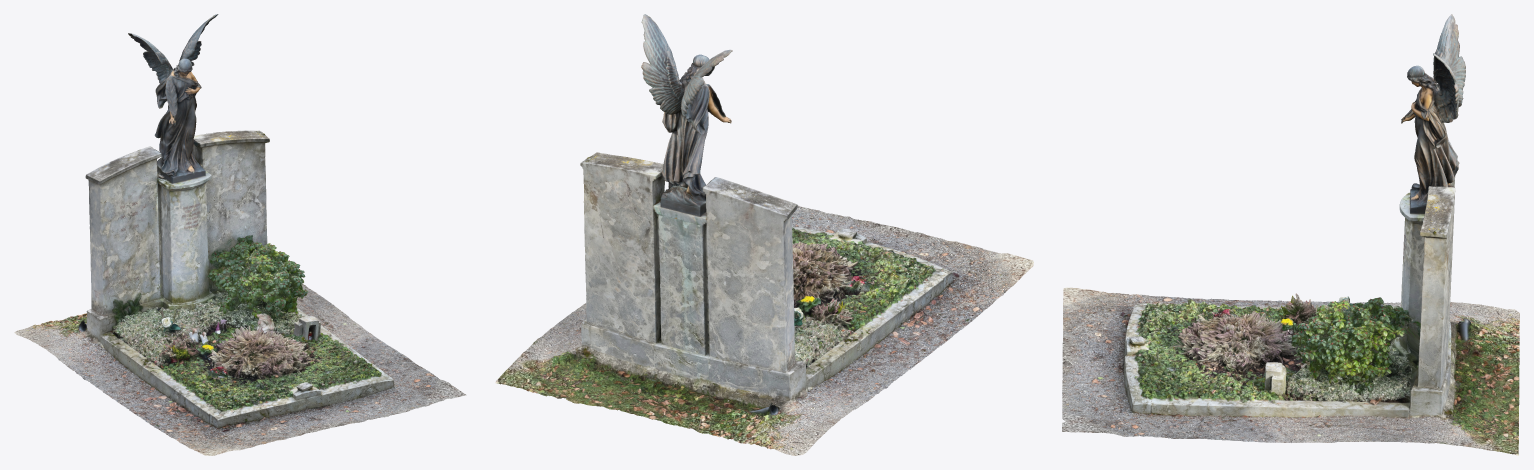
The model's file is gravestone_on_augsburg_westfriedhof_graveyard.glb.
3 renders of one model, left to right at view 1: azimuth 30°, elevation 25°; view 2: azimuth 150°, elevation 25°; view 3: azimuth 270°, elevation 25°, orthographic. The views are drawn at different scales.
Visible parts, largest first — view 1: Object_2, Object_3; view 2: Object_2, Object_3; view 3: Object_2, Object_3.
Part boxes in pixels (<box>): Object_2: <box>14,33,466,455</box>; Object_3: <box>38,14,364,421</box>; Object_2: <box>495,54,1033,455</box>; Object_3: <box>496,14,853,426</box>; Object_2: <box>1062,145,1519,455</box>; Object_3: <box>1062,14,1518,455</box>.
Size of the model in its own units: 20.88 by 23.54 by 27.74.
1 material, 1 textured.
